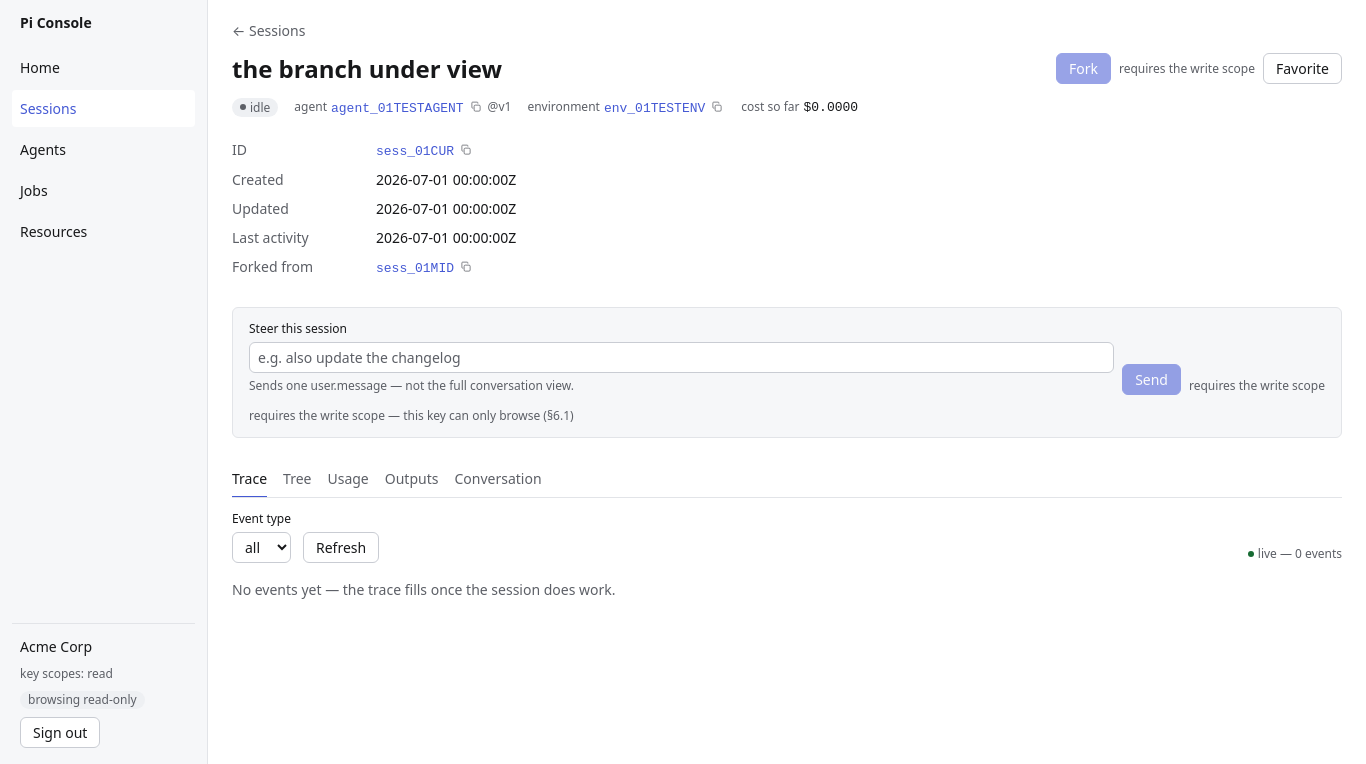
it: log tree (GET …/tree) › an empty tree explains itself
This screenshot has width=1366, height=764.
expect the element named "Session detail" is shown: met, box x1=232 y1=462 x2=1342 y2=498
Click the tab "Tree" at x=297, y=480, box x1=283 y1=462 x2=312 y2=498
(page scrolled)
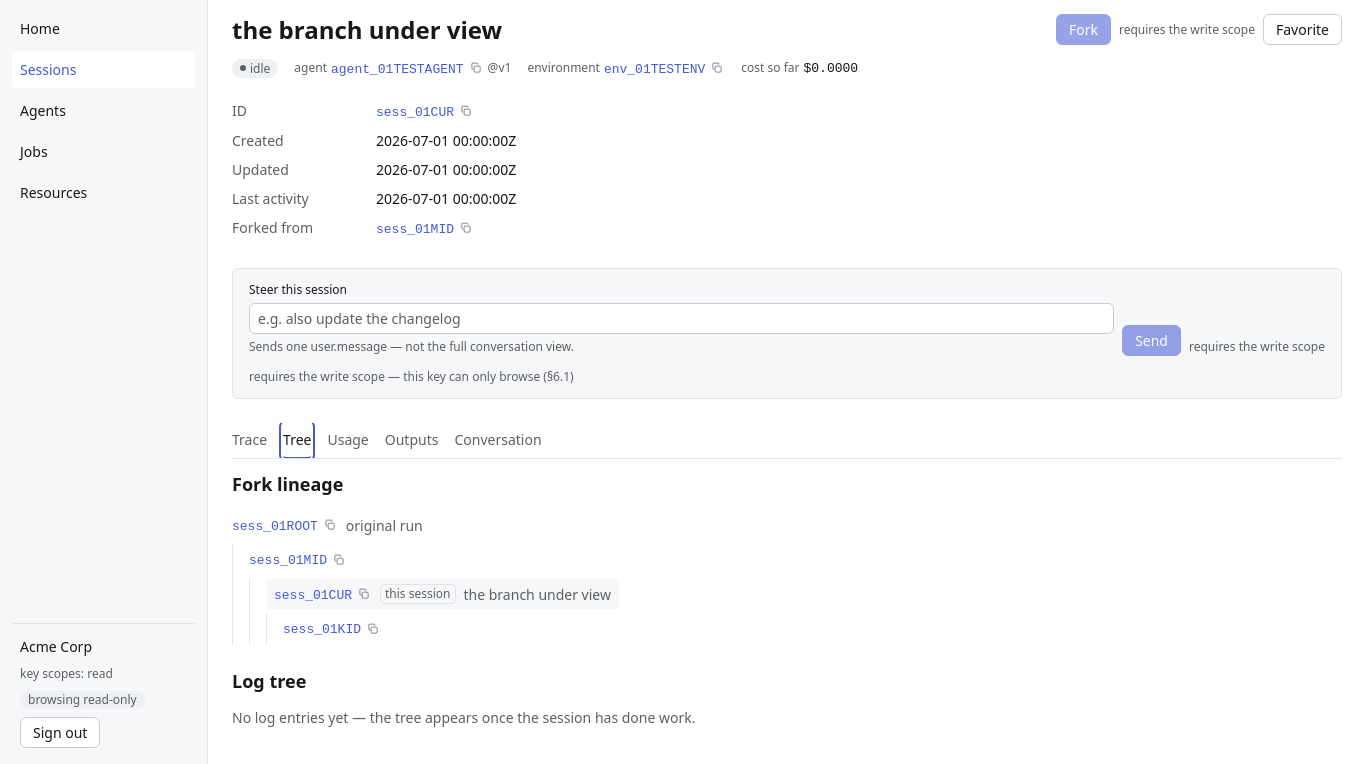
expect the text "No log entries yet" is shown: met, box x1=232 y1=708 x2=696 y2=727
